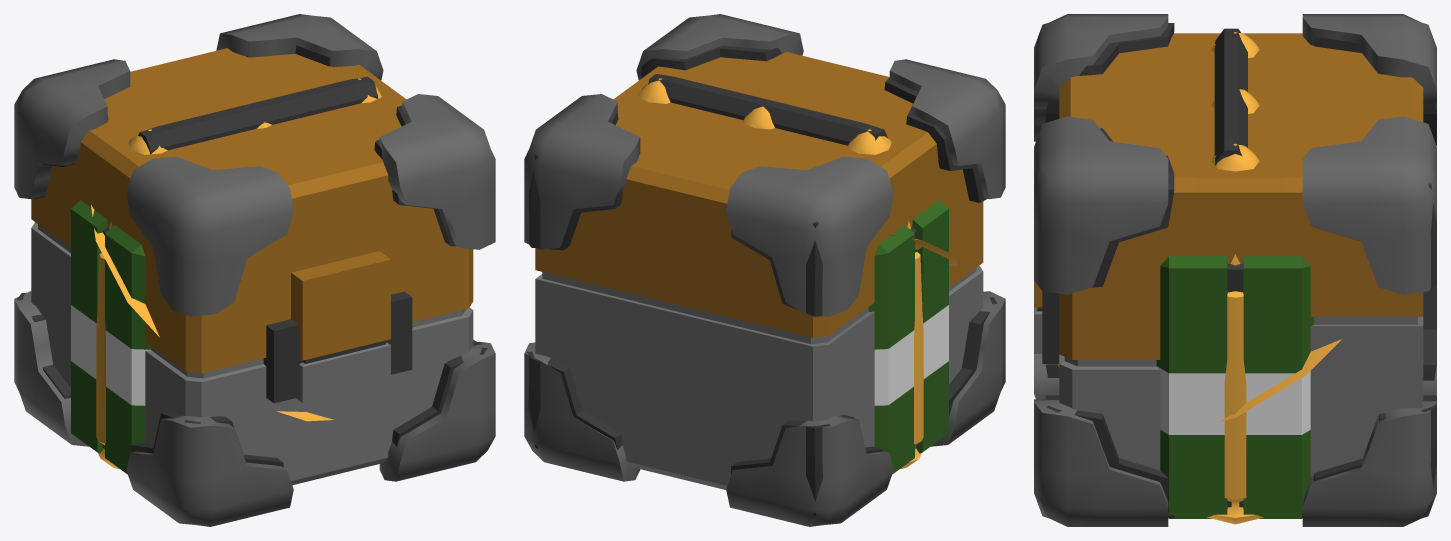
Rendered from pickups.glb.
3 views of the same model, side by side, from view 1: azimuth 30°, elevation 25°; view 2: azimuth 150°, elevation 25°; view 3: azimuth 270°, elevation 25° (orthographic). The views are drawn at different scales.
Parts seen in each view (by area): view 1: Pickup_Crate, Pickup_Sphere, Pickup_Health, Pickup_Bullets, Pickup_Thunder; view 2: Pickup_Crate, Pickup_Sphere, Pickup_Health, Pickup_Bullets; view 3: Pickup_Crate, Pickup_Sphere, Pickup_Health, Pickup_Bullets, Pickup_Thunder.
Boxes of the visible parts, x1,y1,x2,y2 form: Pickup_Crate: (17,45,487,485); Pickup_Sphere: (14,14,495,526); Pickup_Health: (71,76,377,474); Pickup_Bullets: (96,78,381,469); Pickup_Thunder: (91,205,333,421); Pickup_Crate: (527,45,997,516); Pickup_Sphere: (524,14,1005,526); Pickup_Health: (648,74,948,474); Pickup_Bullets: (638,78,923,469); Pickup_Crate: (1034,23,1436,517); Pickup_Sphere: (1034,14,1436,526); Pickup_Health: (1156,28,1314,518); Pickup_Bullets: (1207,32,1263,524); Pickup_Thunder: (1058,339,1341,421).
Bounding box in the file's own units: 1 × 1 × 1.
1 material, 1 textured.
